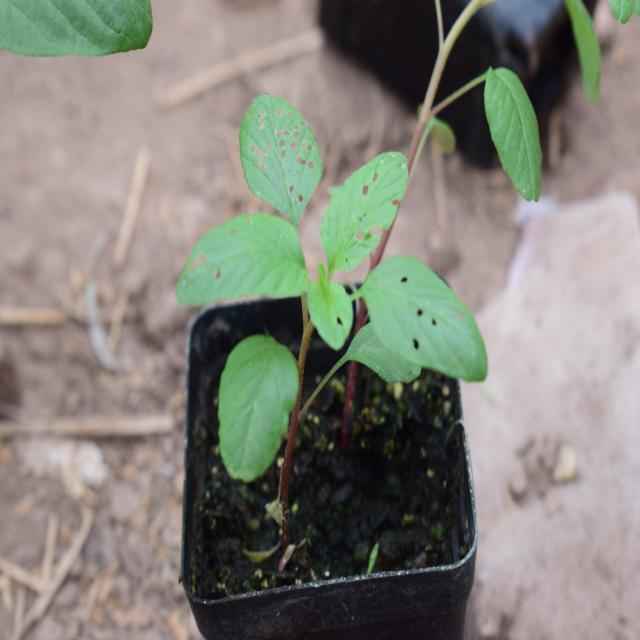pigweed: (168, 95, 494, 466)
